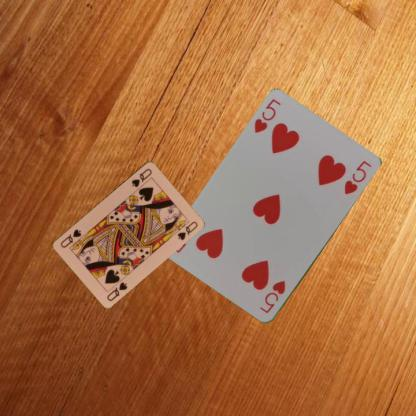5h: (252, 96, 283, 134), (257, 278, 287, 315)
Qs: (104, 279, 129, 302), (129, 166, 153, 188)
